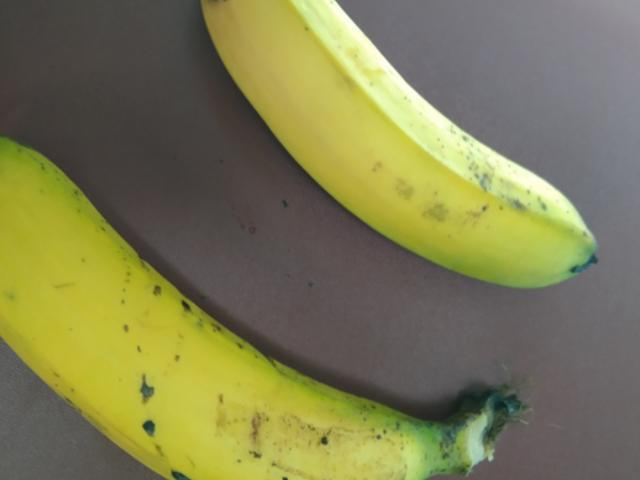freshripe: (178, 0, 587, 301)
ripe: (5, 133, 514, 479)
